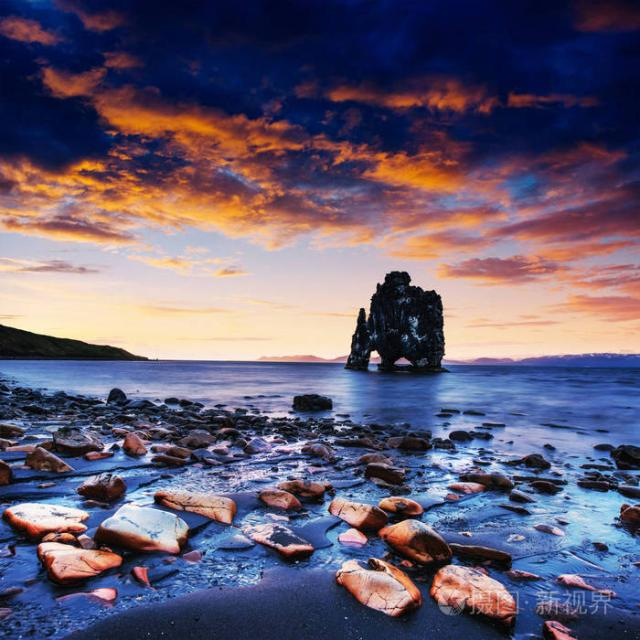reef: (338, 263, 452, 373)
